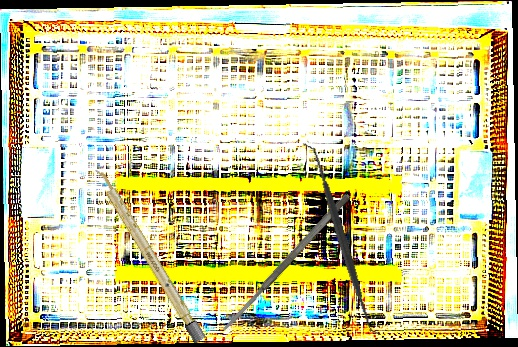Scalpel Handle: (91, 165, 207, 344)
Spatula Surgical: (218, 191, 353, 335), (300, 136, 383, 341)
